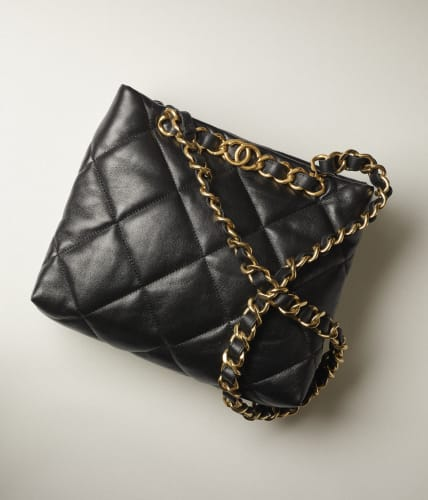channel: (63, 78, 368, 420), (220, 223, 362, 381), (132, 114, 334, 200), (213, 132, 277, 184)
